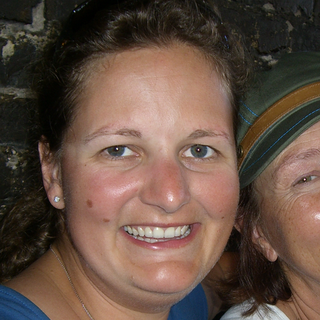eye: (172, 139, 227, 171), (91, 139, 154, 166)
